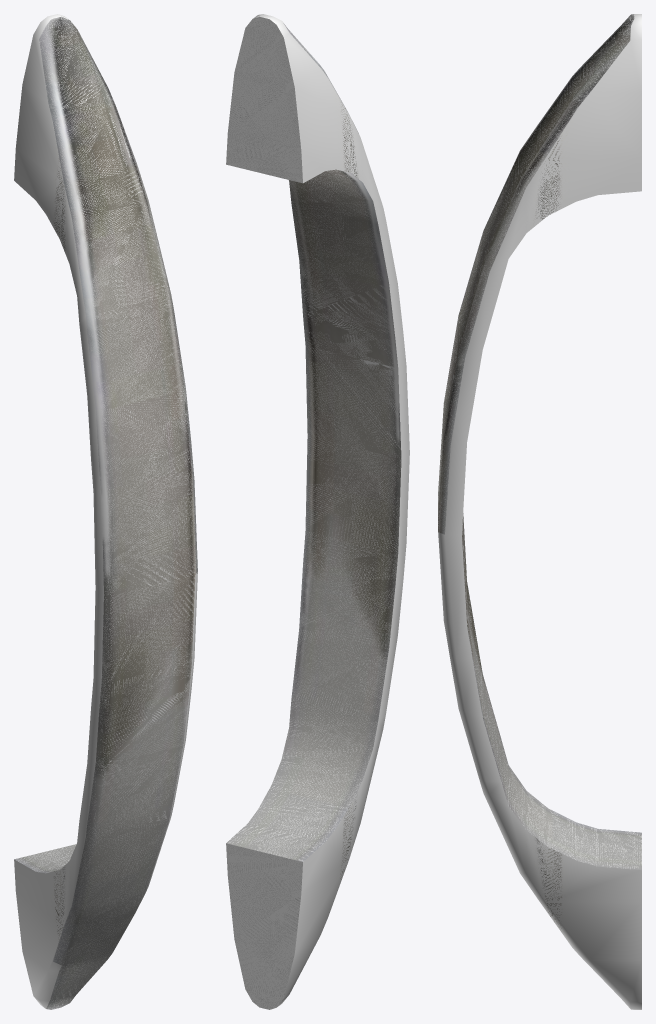
File: original-50.obj
The picture shows the model from 3 angles, left to right: view 1: azimuth 30°, elevation 25°; view 2: azimuth 150°, elevation 25°; view 3: azimuth 270°, elevation 25°; orthographic projection.
Parts seen in each view (by area): view 1: P13101-PC-C_RT1/P13101-PC-C_RT/mesh41/mesh41-geometry#mesh41-geo; view 2: P13101-PC-C_RT1/P13101-PC-C_RT/mesh41/mesh41-geometry#mesh41-geo; view 3: P13101-PC-C_RT1/P13101-PC-C_RT/mesh41/mesh41-geometry#mesh41-geo.
Boxes of the visible parts, left/top/right/bottom form: P13101-PC-C_RT1/P13101-PC-C_RT/mesh41/mesh41-geometry#mesh41-geo: left=14, top=14, right=197, bottom=1009; P13101-PC-C_RT1/P13101-PC-C_RT/mesh41/mesh41-geometry#mesh41-geo: left=226, top=14, right=409, bottom=1009; P13101-PC-C_RT1/P13101-PC-C_RT/mesh41/mesh41-geometry#mesh41-geo: left=438, top=14, right=641, bottom=1009.
Size of the model in its own units: 0.0144 by 0.1448 by 0.027.
